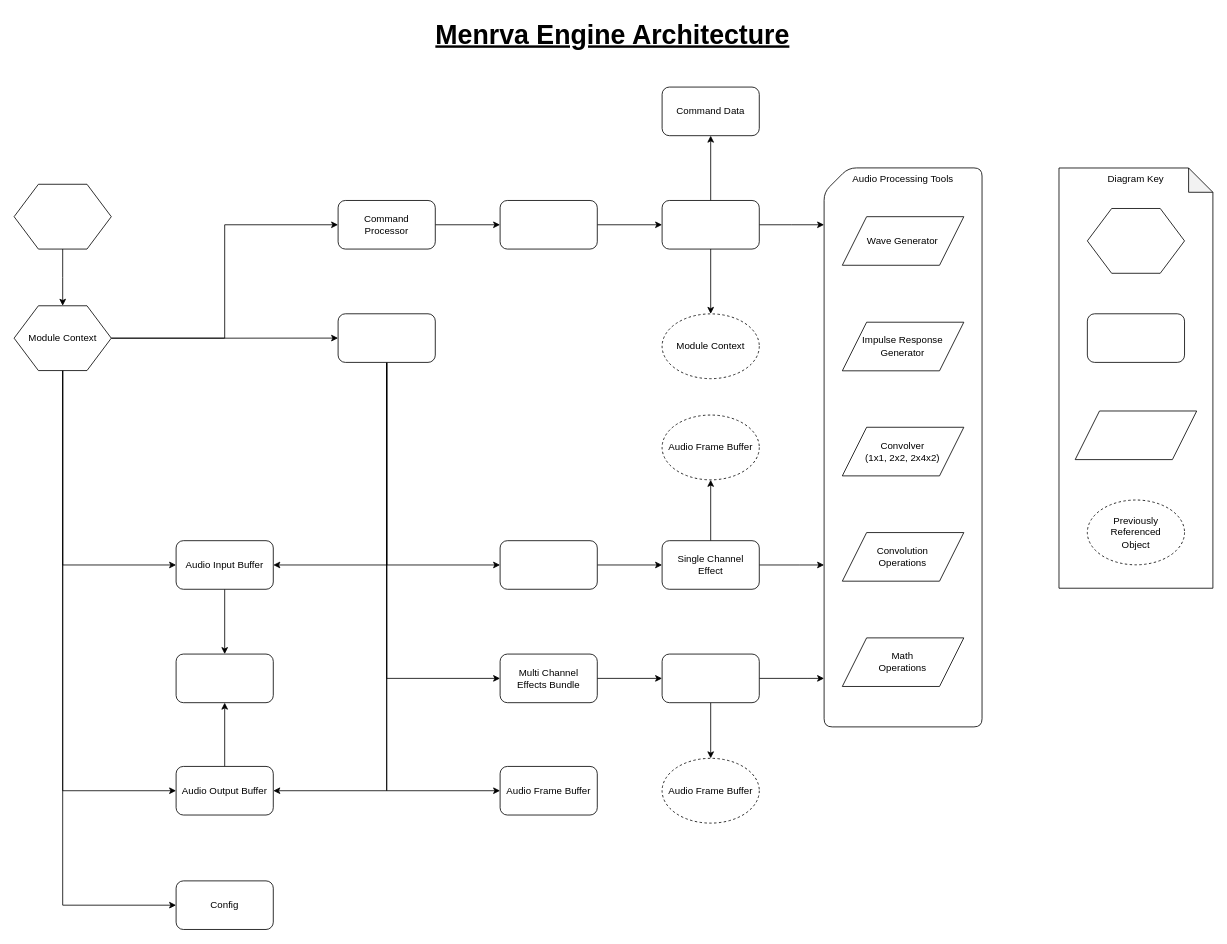
The diagram is 1227 pixels wide and 944 high, and some of its shapes have lost their labels. The centre of each missing label's shape, as x and y in pixels:
Command Handler: the point at 710,224
Command Handler Map: the point at 548,224
Conversion Buffer: the point at 224,678
Effects Engine: the point at 386,337
Host Interface: the point at 62,216
Internal Interface: the point at 1136,337
Internal Tool: the point at 1135,435
Multi Channel Effect: the point at 710,678
Public Interface: the point at 1136,240
Single Channel Effects Bundle: the point at 548,564
